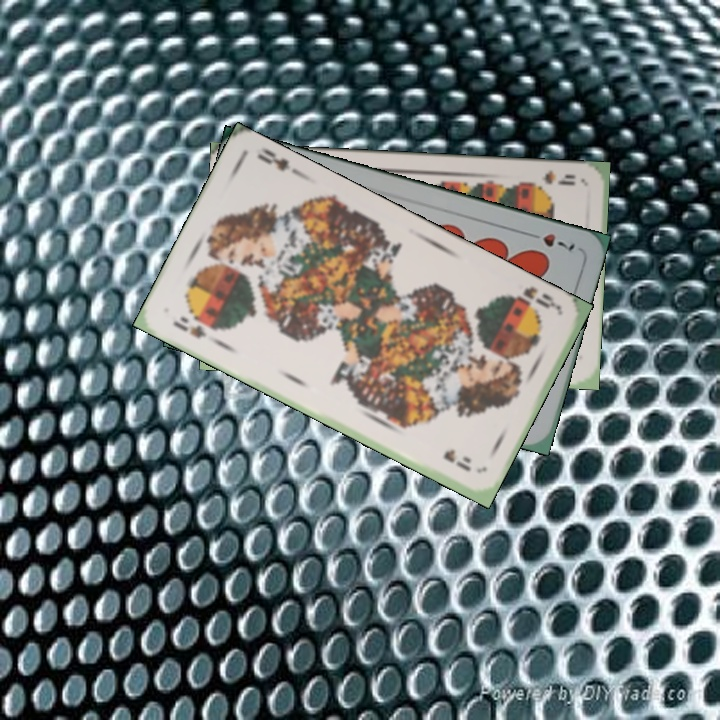H7: (522, 228, 578, 254)
S9: (524, 167, 578, 193)
SO: (502, 282, 563, 317), (169, 312, 209, 341)
